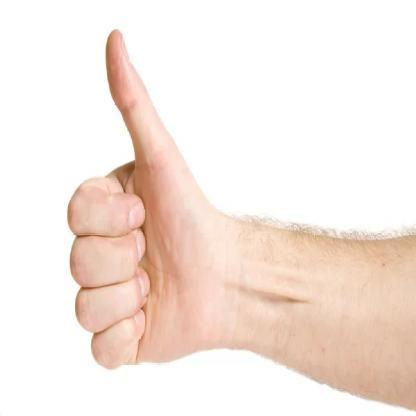thumb_up: (63, 26, 233, 372)
